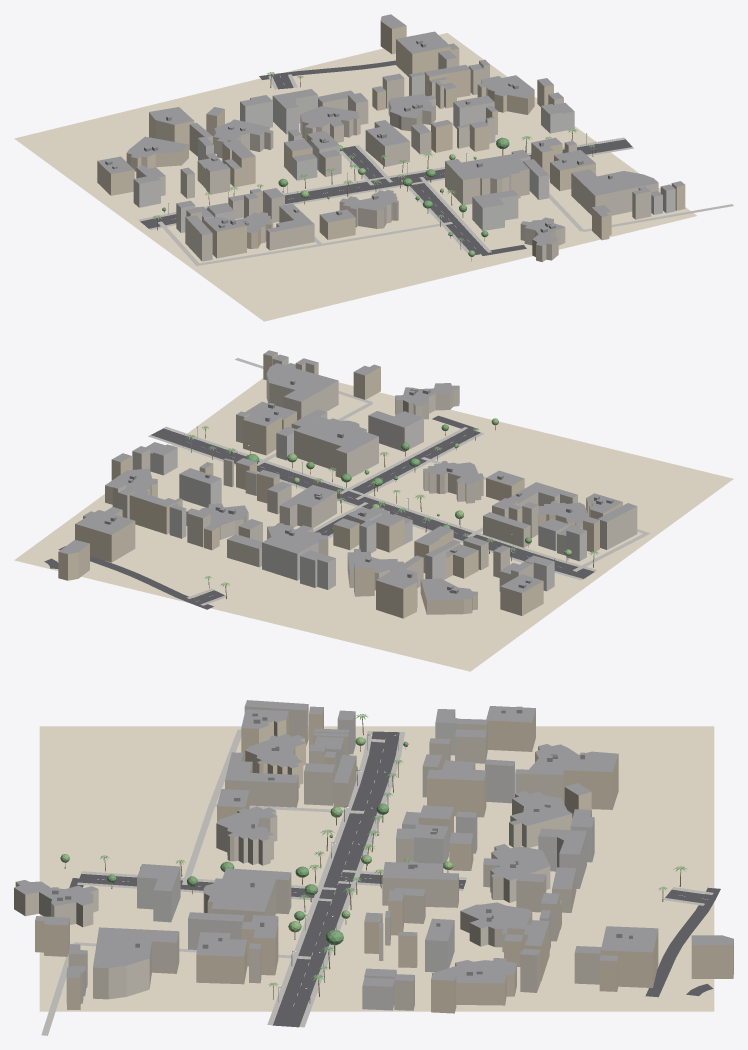
Rendered from tile_4_-4.glb.
The picture shows the model from 3 angles, top to bottom: view 1: azimuth 30°, elevation 25°; view 2: azimuth 150°, elevation 25°; view 3: azimuth 270°, elevation 25°; orthographic projection. The views are drawn at different scales.
Parts seen in each view (by area): view 1: nature_ground, buildings_roof, buildings_concrete_warm, buildings_sandstone, buildings_concrete_light, roads_asphalt, roads_sidewalk, nature_foliage_a, nature_palm_leaf; view 2: nature_ground, buildings_roof, buildings_concrete_warm, buildings_sandstone, buildings_concrete_light, roads_asphalt, roads_sidewalk, nature_palm_leaf, nature_foliage_a; view 3: nature_ground, buildings_roof, buildings_concrete_warm, buildings_sandstone, roads_asphalt, buildings_concrete_light, roads_sidewalk, nature_foliage_a, nature_palm_leaf, nature_trunk, nature_foliage_b.
Boxes of the visible parts, left/top/right/bottom form: nature_ground: left=14, top=33, right=696, bottom=321; buildings_roof: left=97, top=14, right=684, bottom=246; buildings_concrete_warm: left=136, top=52, right=658, bottom=262; buildings_sandstone: left=97, top=21, right=685, bottom=258; buildings_concrete_light: left=133, top=74, right=675, bottom=232; roads_asphalt: left=140, top=60, right=632, bottom=255; roads_sidewalk: left=138, top=74, right=733, bottom=265; nature_foliage_a: left=162, top=137, right=509, bottom=237; nature_palm_leaf: left=152, top=72, right=595, bottom=241; nature_ground: left=14, top=378, right=733, bottom=671; buildings_roof: left=58, top=350, right=636, bottom=600; buildings_concrete_warm: left=112, top=363, right=637, bottom=591; buildings_sandstone: left=58, top=353, right=622, bottom=618; buildings_concrete_light: left=150, top=357, right=586, bottom=591; roads_asphalt: left=44, top=415, right=594, bottom=609; roads_sidewalk: left=148, top=358, right=650, bottom=605; nature_palm_leaf: left=186, top=426, right=599, bottom=587; nature_foliage_a: left=245, top=424, right=555, bottom=570; nature_ground: left=39, top=726, right=714, bottom=1011; buildings_roof: left=14, top=700, right=733, bottom=986; buildings_concrete_warm: left=14, top=704, right=600, bottom=1010; buildings_sandstone: left=35, top=707, right=733, bottom=1013; roads_asphalt: left=69, top=731, right=720, bottom=1027; buildings_concrete_light: left=66, top=710, right=594, bottom=1010; roads_sidewalk: left=41, top=729, right=713, bottom=1035; nature_foliage_a: left=107, top=741, right=408, bottom=945; nature_palm_leaf: left=100, top=714, right=687, bottom=987; nature_trunk: left=64, top=716, right=681, bottom=999; nature_foliage_b: left=60, top=737, right=453, bottom=934.
Size of the model in its own units: 272 by 17.34 by 267.
